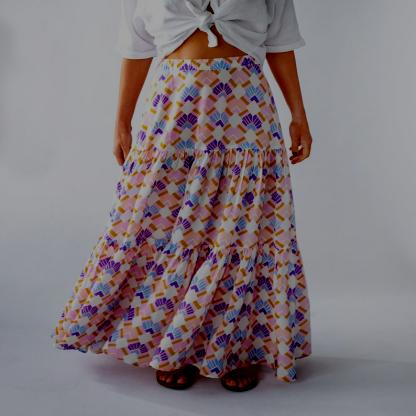dress: (48, 51, 328, 380)
